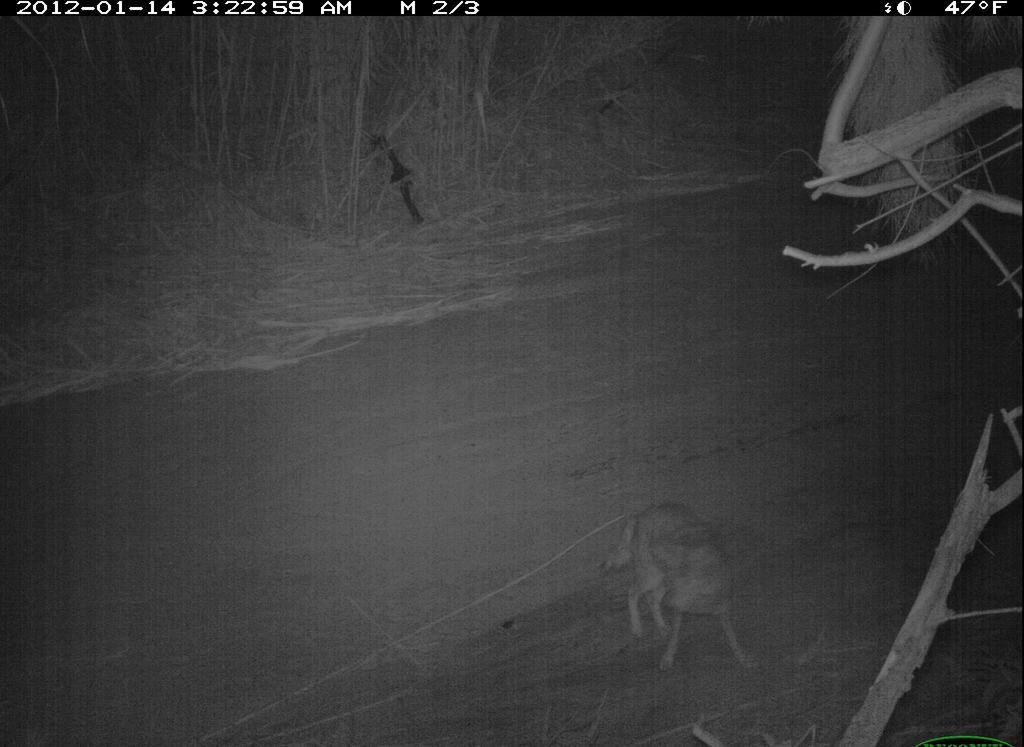coyote: (594, 495, 766, 689)
